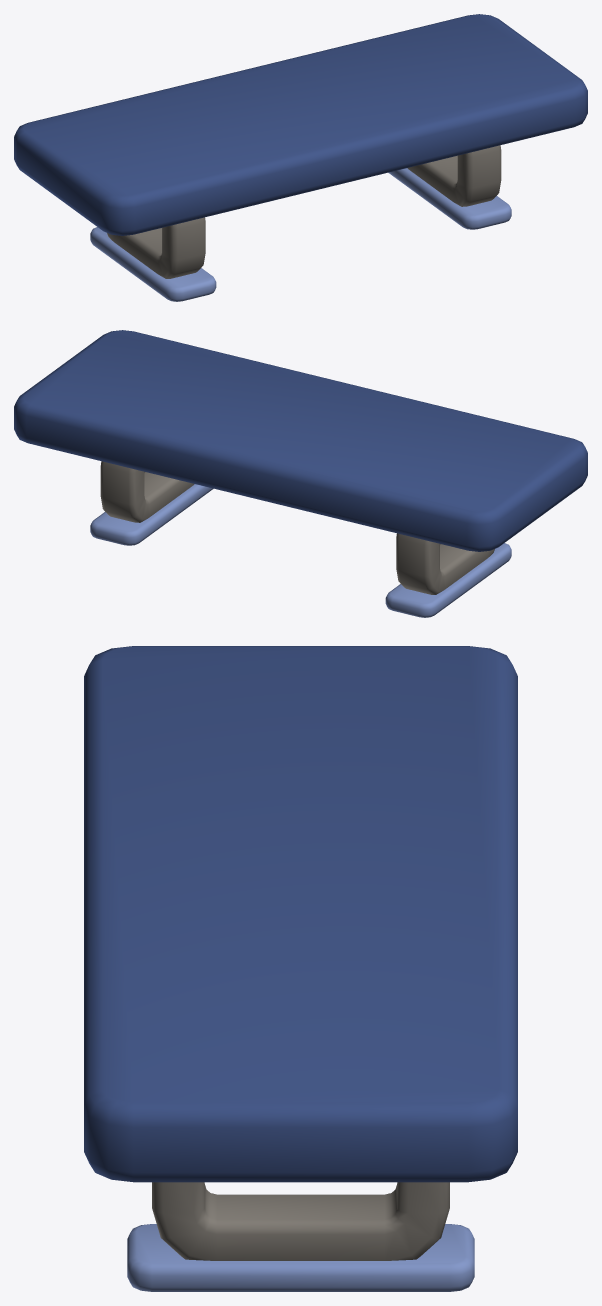
The model's file is banc_ilot.glb.
3 views of the same model, one above another, from view 1: azimuth 30°, elevation 25°; view 2: azimuth 150°, elevation 25°; view 3: azimuth 270°, elevation 25° (orthographic). The views are drawn at different scales.
Parts seen in each view (by area): view 1: BIL_Bleu_Moyen, BIL_Gris_Chaud, BIL_Bleu_Clair; view 2: BIL_Bleu_Moyen, BIL_Gris_Chaud, BIL_Bleu_Clair; view 3: BIL_Bleu_Moyen, BIL_Gris_Chaud, BIL_Bleu_Clair.
Part boxes in pixels (x1=…): BIL_Bleu_Moyen: x1=14, y1=14, x2=587, y2=235; BIL_Gris_Chaud: x1=107, y1=145, x2=501, y2=278; BIL_Bleu_Clair: x1=90, y1=168, x2=511, y2=301; BIL_Bleu_Moyen: x1=14, y1=330, x2=587, y2=551; BIL_Gris_Chaud: x1=100, y1=461, x2=494, y2=594; BIL_Bleu_Clair: x1=90, y1=484, x2=511, y2=617; BIL_Bleu_Moyen: x1=84, y1=646, x2=517, y2=1182; BIL_Gris_Chaud: x1=152, y1=1182, x2=449, y2=1260; BIL_Bleu_Clair: x1=127, y1=1224, x2=474, y2=1291.
Size of the model in its own units: 1.8 by 0.45 by 0.7.
